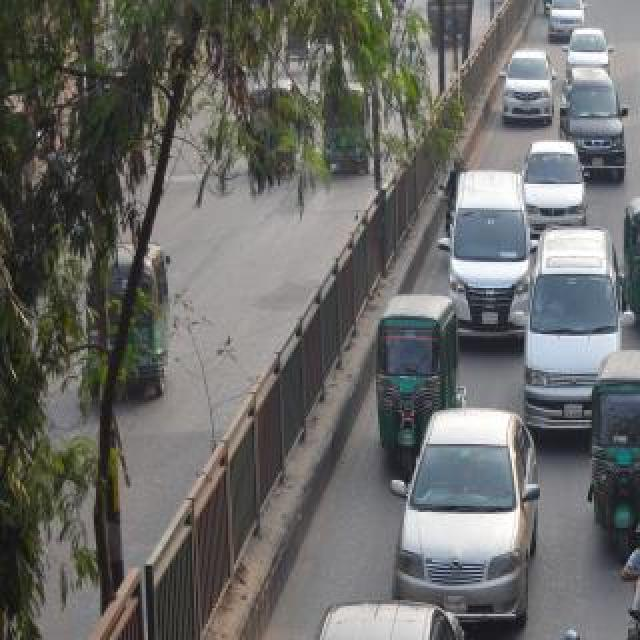car: (404, 427, 532, 589), (572, 75, 638, 181), (248, 610, 450, 640), (529, 141, 581, 229), (494, 52, 552, 126), (563, 27, 609, 65), (537, 1, 583, 33)
motorbike: (616, 524, 640, 640), (526, 622, 590, 640)
van: (536, 241, 596, 427), (454, 175, 528, 323), (420, 0, 470, 46)
